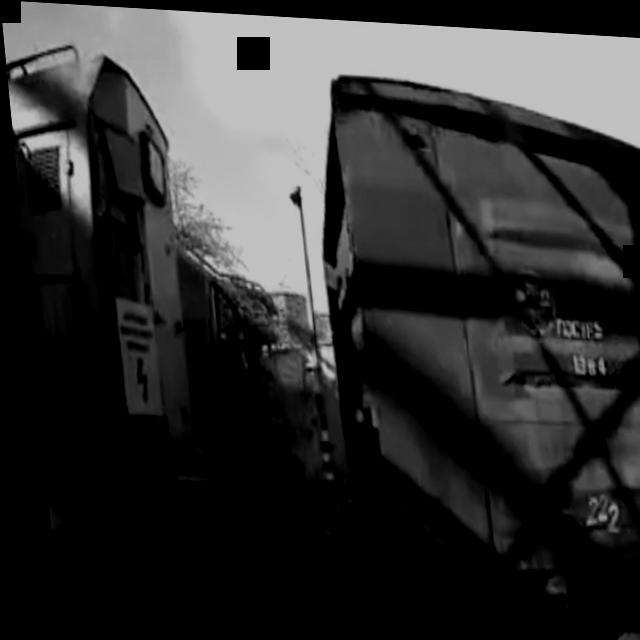gondola: (280, 45, 640, 640)
locomotive: (2, 26, 252, 640)
